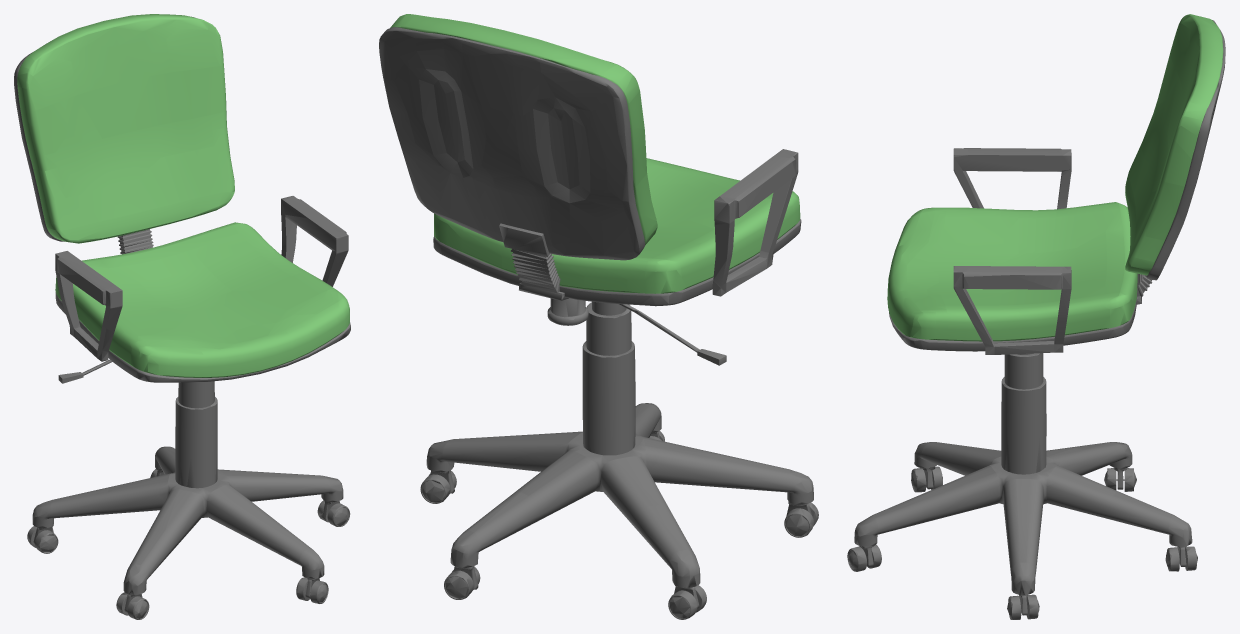
Rendered from seat.fbx.
3 views of the same model, side by side, from view 1: azimuth 30°, elevation 25°; view 2: azimuth 150°, elevation 25°; view 3: azimuth 270°, elevation 25° (orthographic). The views are drawn at different scales.
Parts seen in each view (by area): view 1: Office_chair; view 2: Office_chair; view 3: Office_chair.
Part boxes in pixels (bbox=[...]): Office_chair: bbox=[14, 14, 350, 619]; Office_chair: bbox=[379, 14, 818, 619]; Office_chair: bbox=[847, 14, 1225, 619].
Size of the model in its own units: 54.14 by 90.22 by 61.65.
